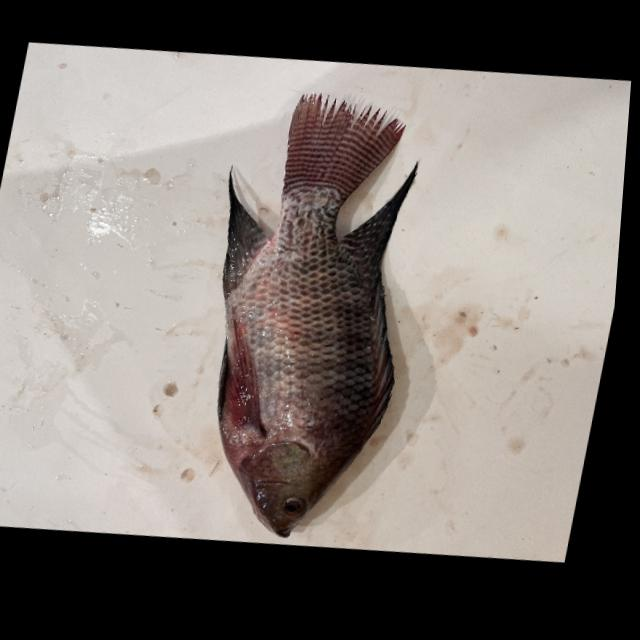Tilapia: (156, 72, 454, 556)
